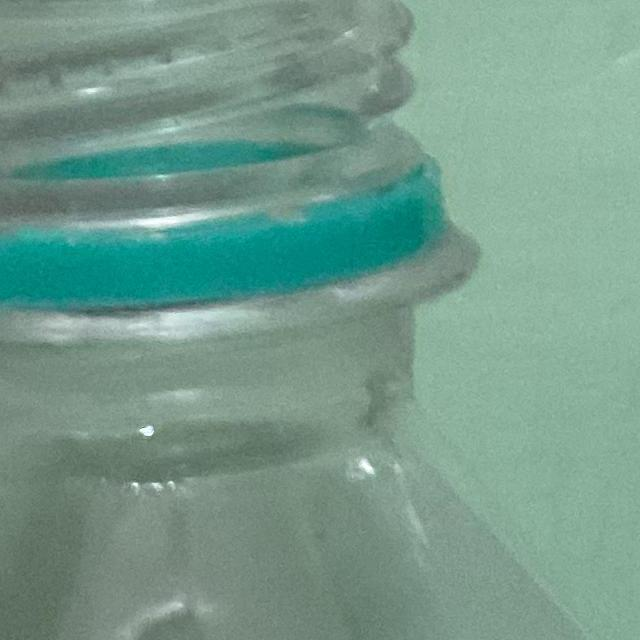open-cap: (0, 0, 450, 295)
